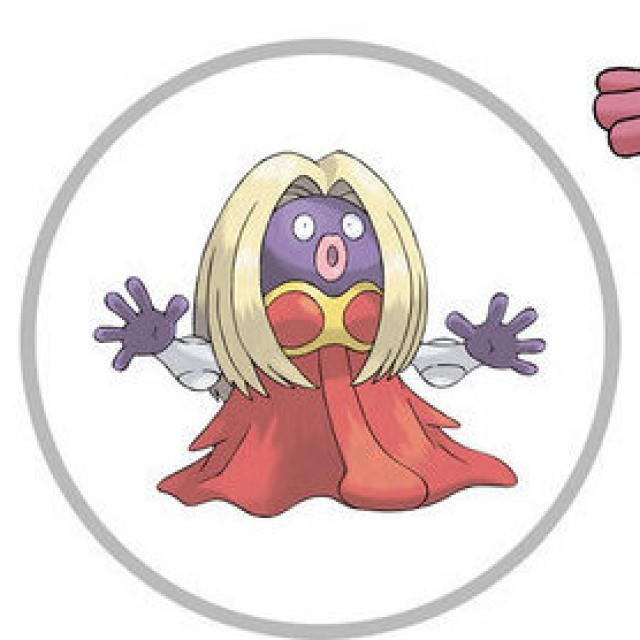Jynx: (165, 148, 453, 510)
